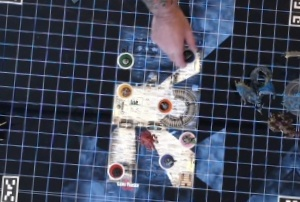blue: (179, 47, 196, 63)
green: (115, 51, 134, 69)
orange: (155, 96, 175, 113)
pink: (177, 129, 196, 148)
red: (105, 160, 125, 181)
violet: (155, 151, 175, 171)
yellow: (115, 80, 132, 100)
